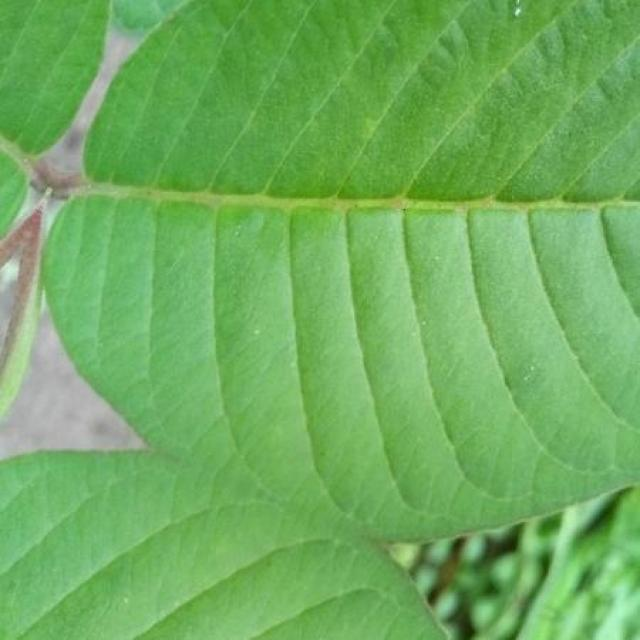Disease Free: (44, 1, 640, 539), (0, 0, 109, 153)
